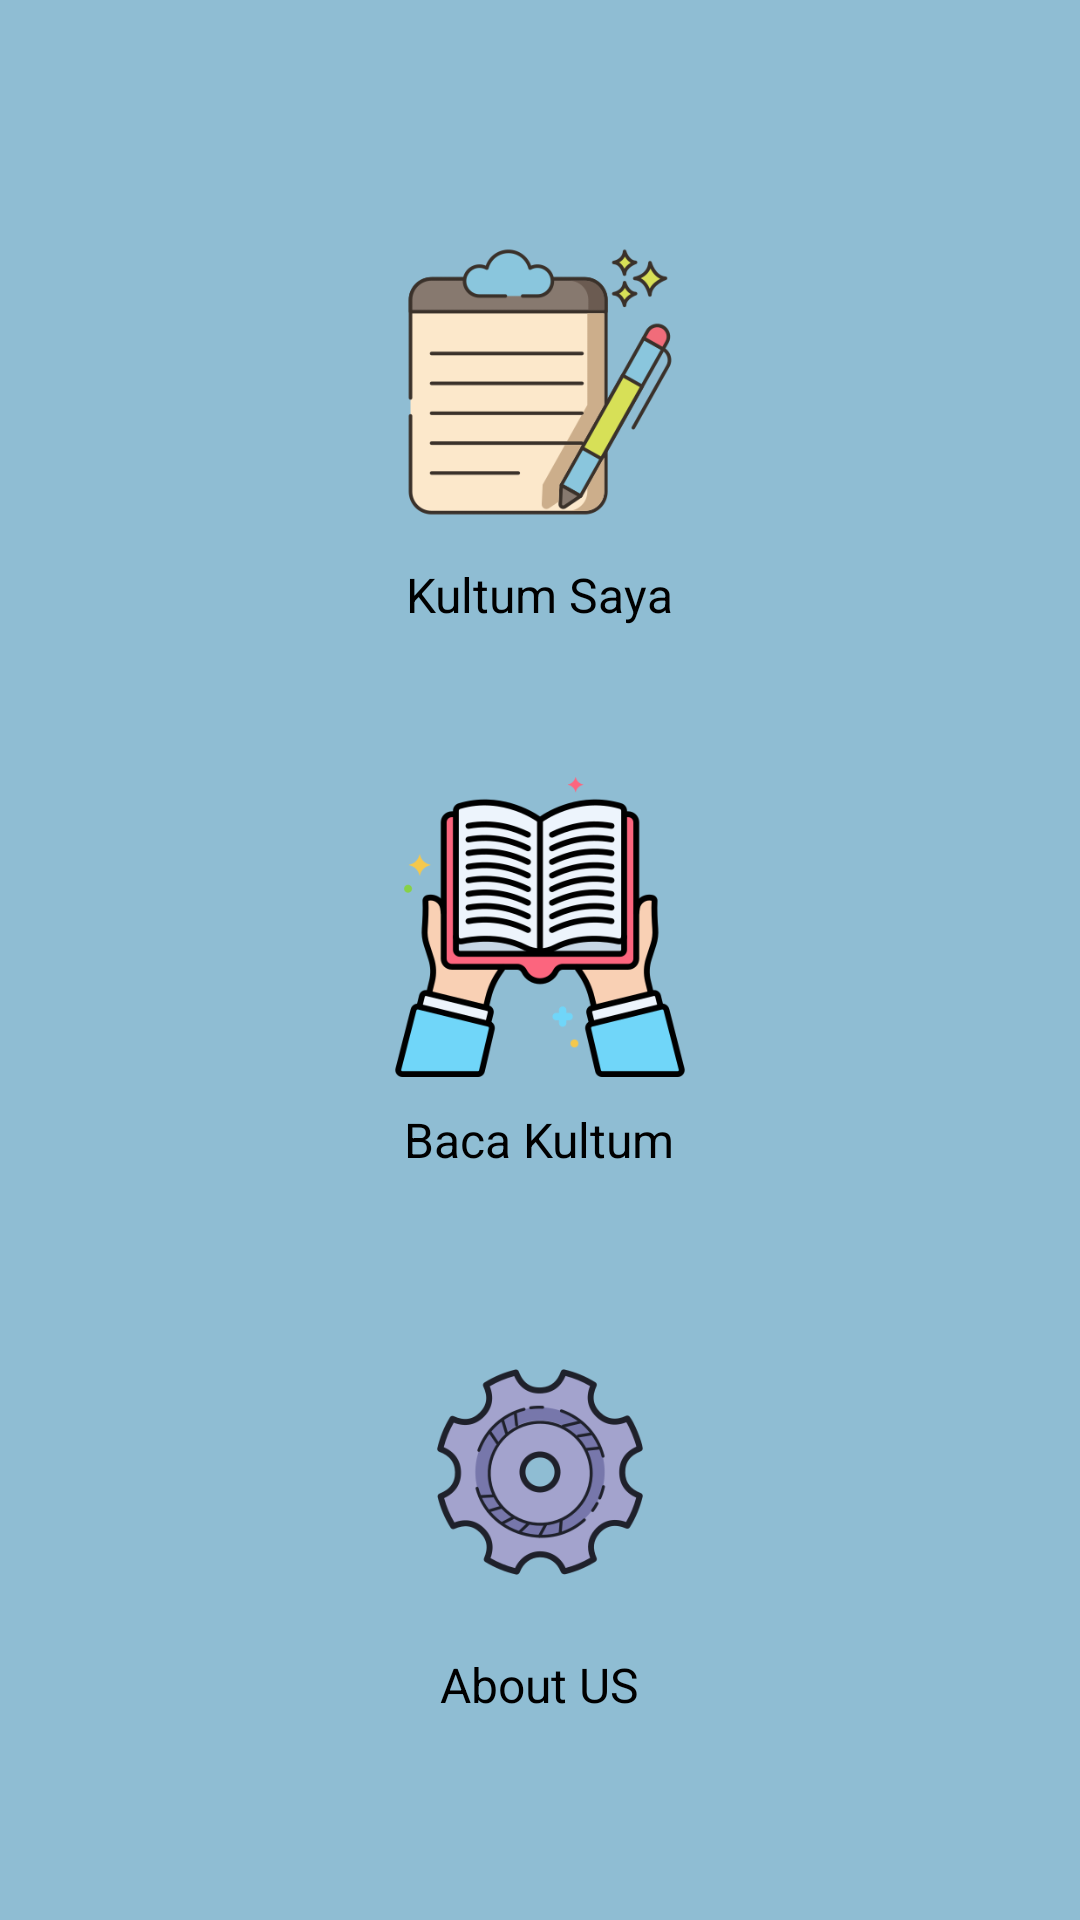

Named icons in this screenshot (1080px×1920px) and their bounding boxes, (x1, y1, x2, y2):
settings: (437, 1369, 643, 1575)
write: (408, 249, 672, 515)
